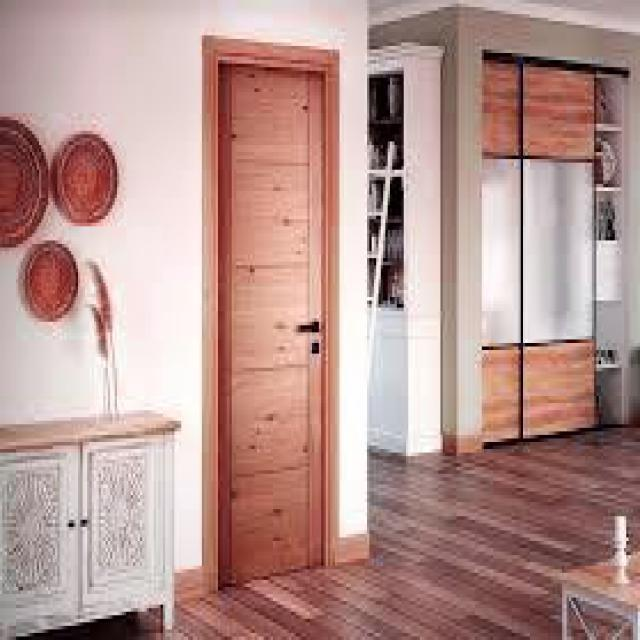Door: (215, 54, 329, 588)
